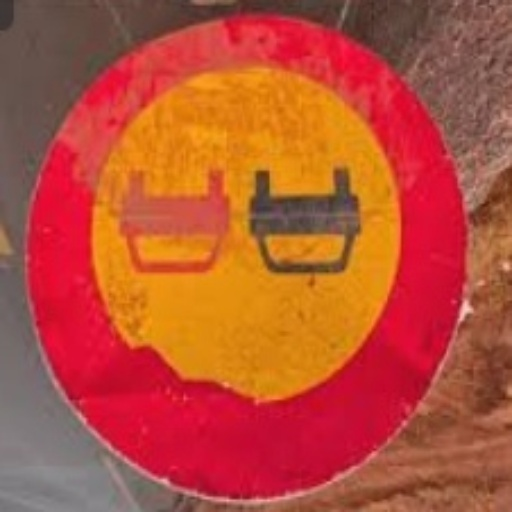No overtake: (29, 28, 462, 479)
